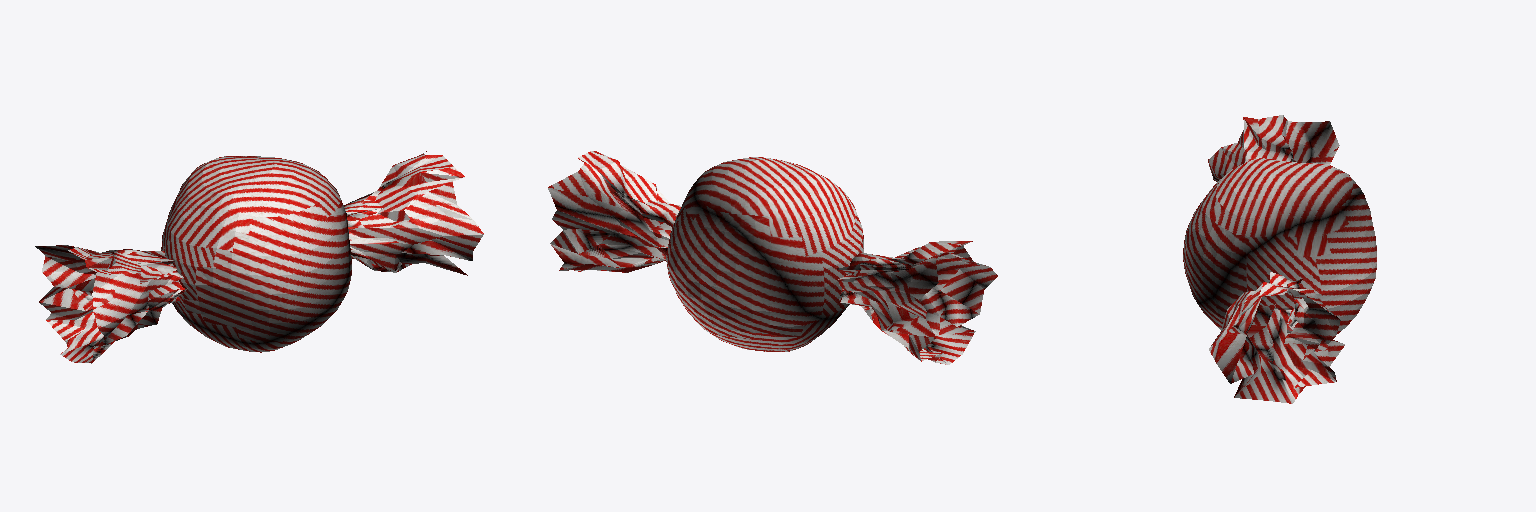
3 renders of one model, left to right at view 1: azimuth 30°, elevation 25°; view 2: azimuth 150°, elevation 25°; view 3: azimuth 270°, elevation 25°, orthographic.
Parts seen in each view (by area): view 1: Sphere001; view 2: Sphere001; view 3: Sphere001.
Part boxes in pixels (bbox=[...]): Sphere001: bbox=[35, 151, 483, 363]; Sphere001: bbox=[548, 151, 997, 364]; Sphere001: bbox=[1183, 115, 1376, 403].
Bounding box in the file's own units: 65.12 × 28.31 × 28.05.
Materials: 1 (1 with a texture image).